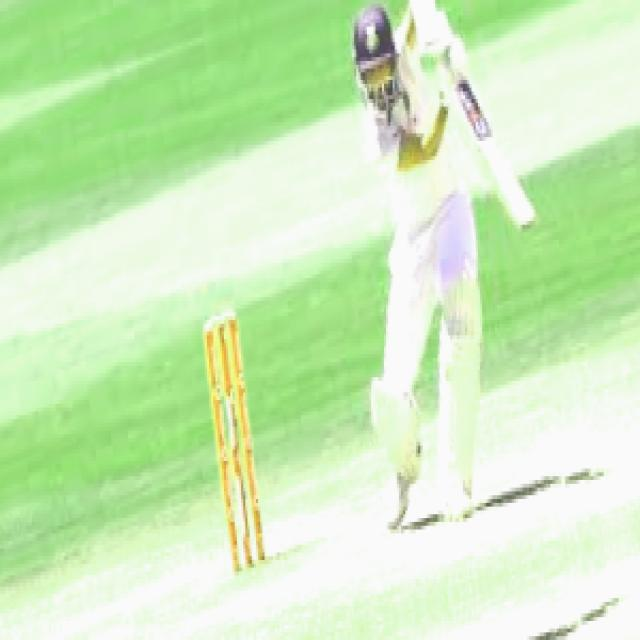toe: (506, 197, 539, 233)
